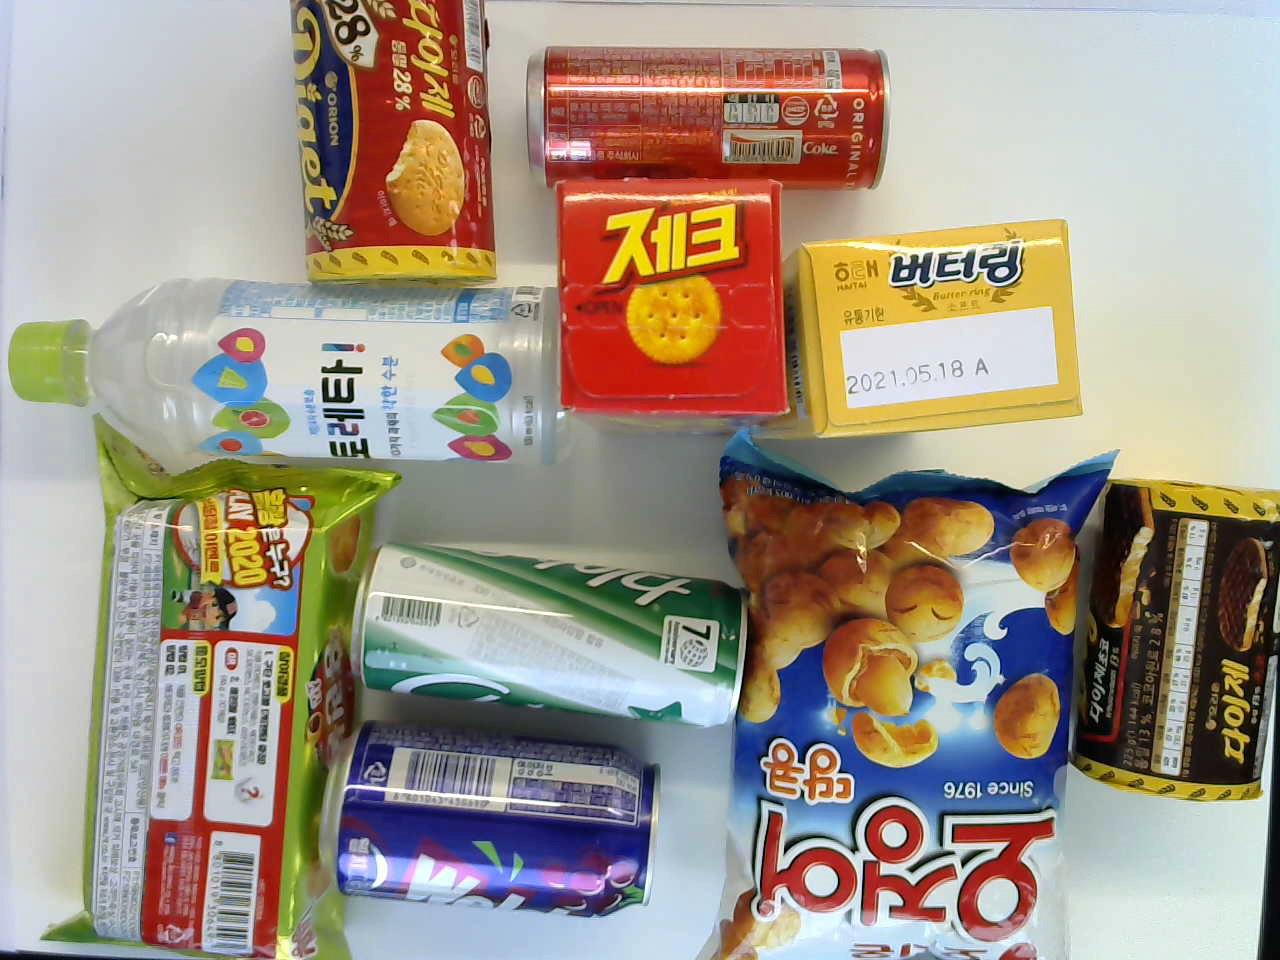buttering: (799, 215, 1084, 439)
cidar: (344, 541, 749, 737)
coke: (524, 48, 877, 190)
diget_choco: (1064, 477, 1280, 803)
diget_ori: (294, 0, 492, 277)
homerunball: (42, 415, 397, 953)
squid_peanut: (715, 421, 1117, 959)
toreta: (7, 276, 551, 464)
welchs: (325, 727, 660, 925)
zec: (547, 179, 789, 416)
